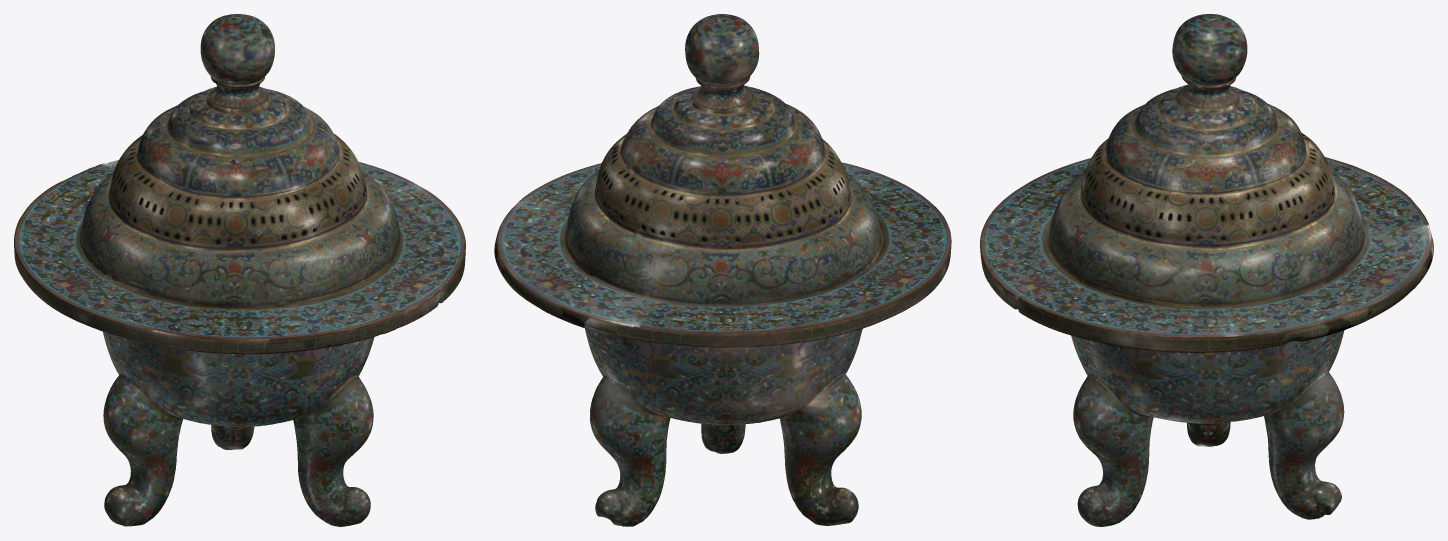
The model's file is incense_burner.glb.
3 renders of one model, left to right at view 1: azimuth 30°, elevation 25°; view 2: azimuth 150°, elevation 25°; view 3: azimuth 270°, elevation 25°, orthographic.
Visible parts, largest first — view 1: Object_2; view 2: Object_2; view 3: Object_2.
Boxes of the visible parts, x1,y1,x2,y2 form: Object_2: (14, 14, 465, 526); Object_2: (494, 14, 951, 526); Object_2: (980, 14, 1433, 526).
Size of the model in its own units: 834 by 977 by 838.
1 material, 1 textured.
